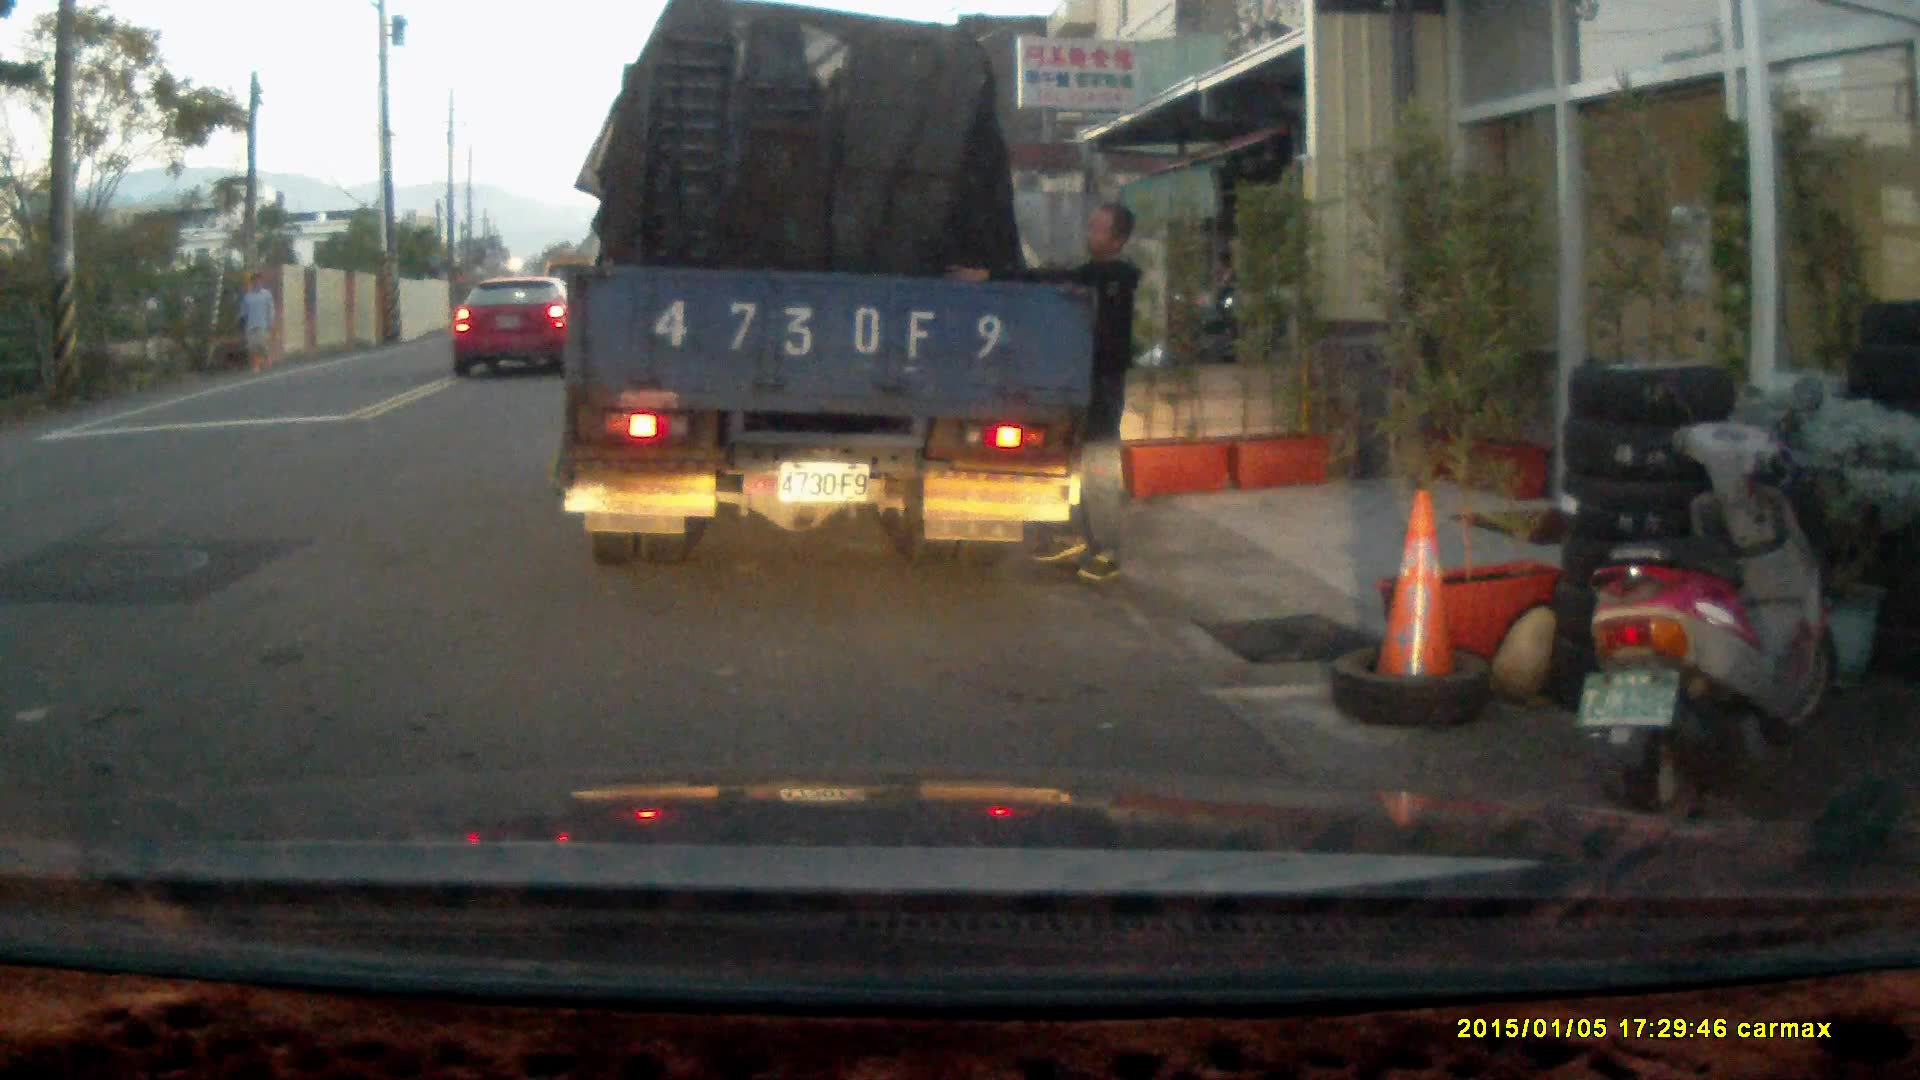pedestrian: (949, 200, 1140, 583), (237, 272, 276, 376)
vehicle: (565, 23, 1097, 572), (458, 277, 578, 381)
